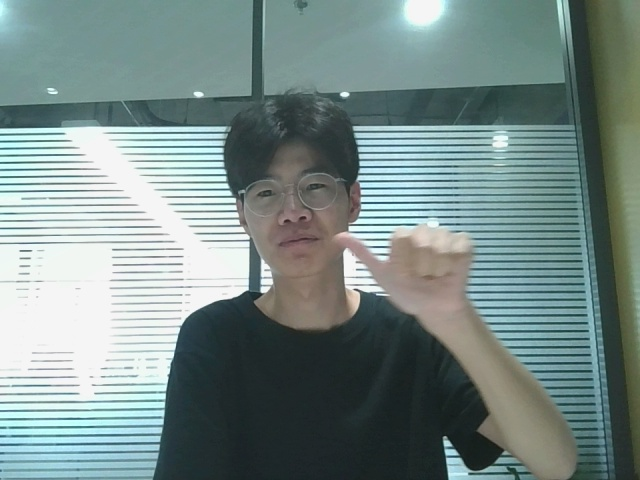hand: (330, 220, 492, 315)
